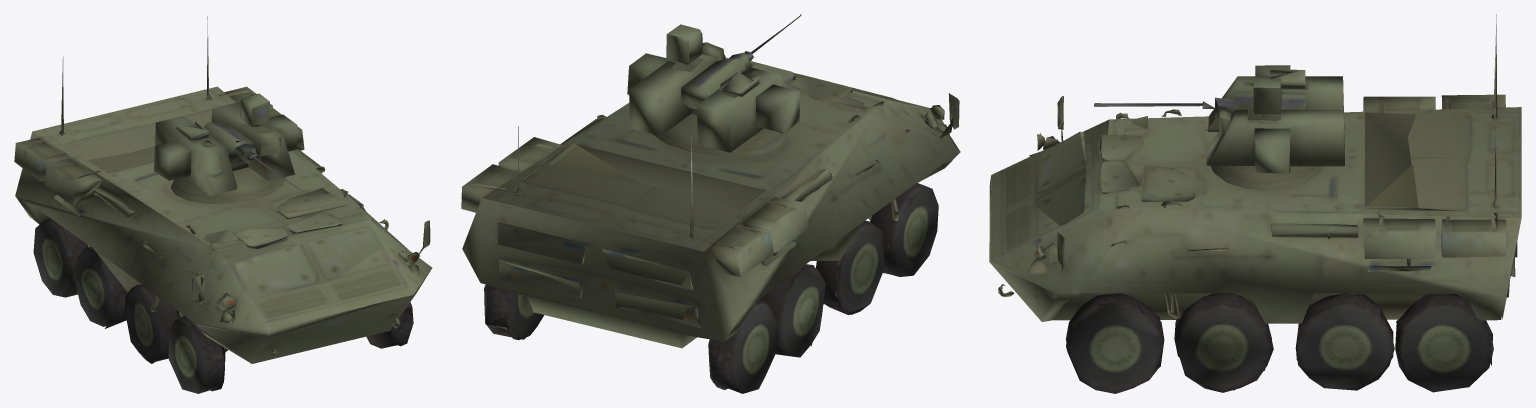
The model's file is us-stryker.glb.
3 views of the same model, side by side, from view 1: azimuth 30°, elevation 25°; view 2: azimuth 150°, elevation 25°; view 3: azimuth 270°, elevation 25° (orthographic). The views are drawn at different scales.
Visible parts, largest first — view 1: us-stryker, turret; view 2: us-stryker, turret; view 3: us-stryker, turret.
Boxes of the visible parts, bbox=[...] form: us-stryker: bbox=[15, 132, 432, 393]; turret: bbox=[14, 16, 429, 299]; us-stryker: bbox=[462, 54, 960, 393]; turret: bbox=[461, 14, 959, 276]; us-stryker: bbox=[989, 100, 1521, 393]; turret: bbox=[1057, 14, 1521, 264].
Bounding box in the file's own units: 0.602 × 0.54 × 0.946.
Materials: 2 (1 with a texture image).
